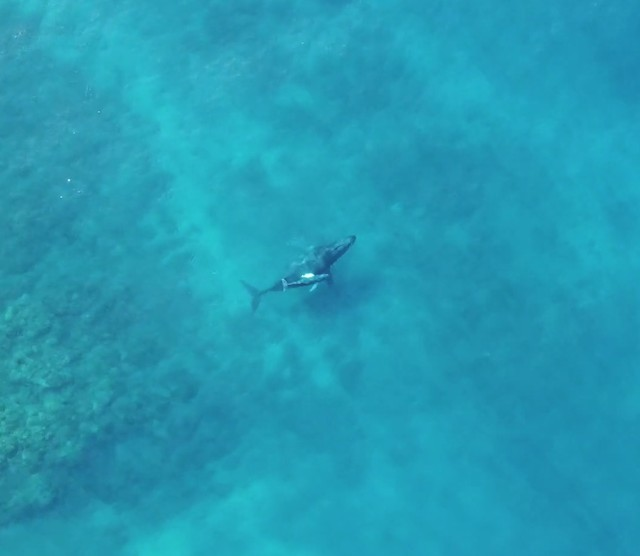whale: (233, 231, 360, 315), (274, 265, 334, 297)
